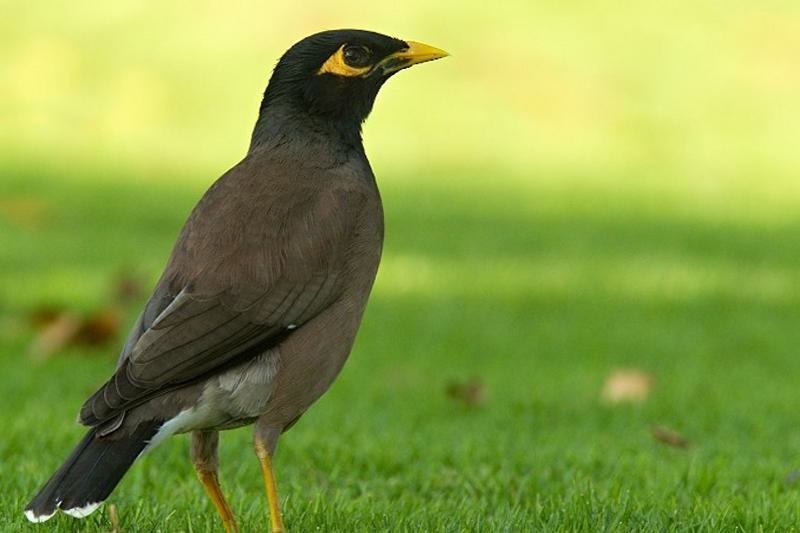myna: (10, 31, 457, 533)
